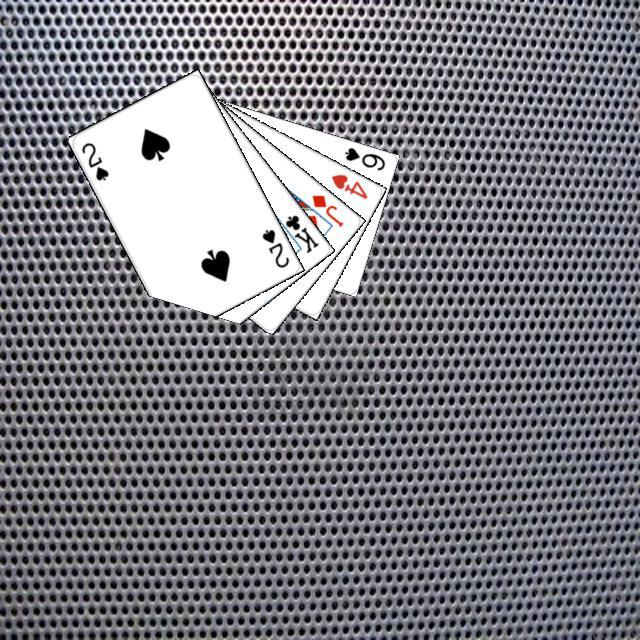2s: (257, 224, 291, 270), (77, 137, 111, 182)
4h: (326, 169, 369, 201)
6s: (340, 142, 387, 172)
Jd: (307, 190, 345, 229)
Kc: (272, 210, 321, 255)
